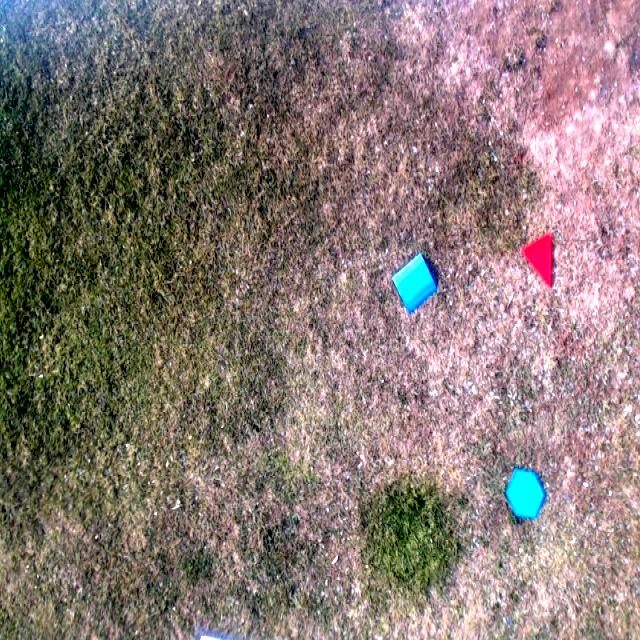blue_hexagon: (504, 466, 544, 521)
blue_square: (388, 252, 441, 316)
red_triangle: (522, 234, 554, 288)
